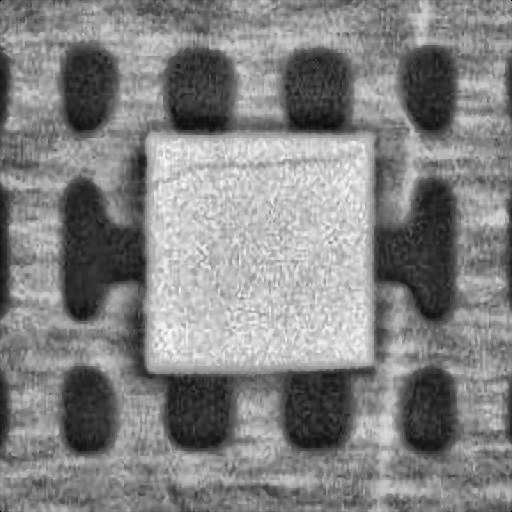DIE_CRACK: (149, 148, 342, 186)
